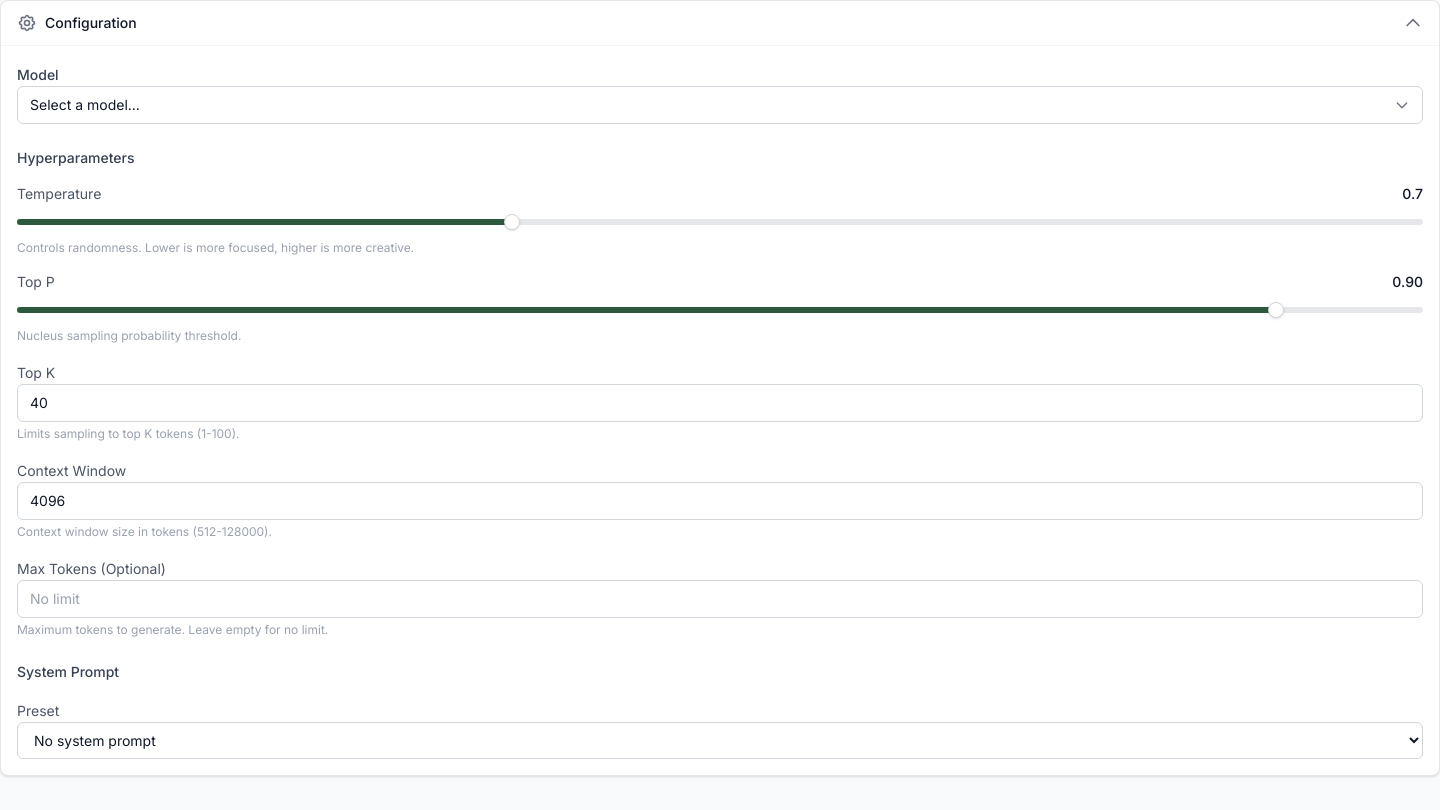
Scenario: ConfigPanel › collapsible behaviour › has correct aria-expanded attribute
Click the button with test id "config-panel-trigger" at {"x": 91, "y": 22}, box [1,1,1439,45]
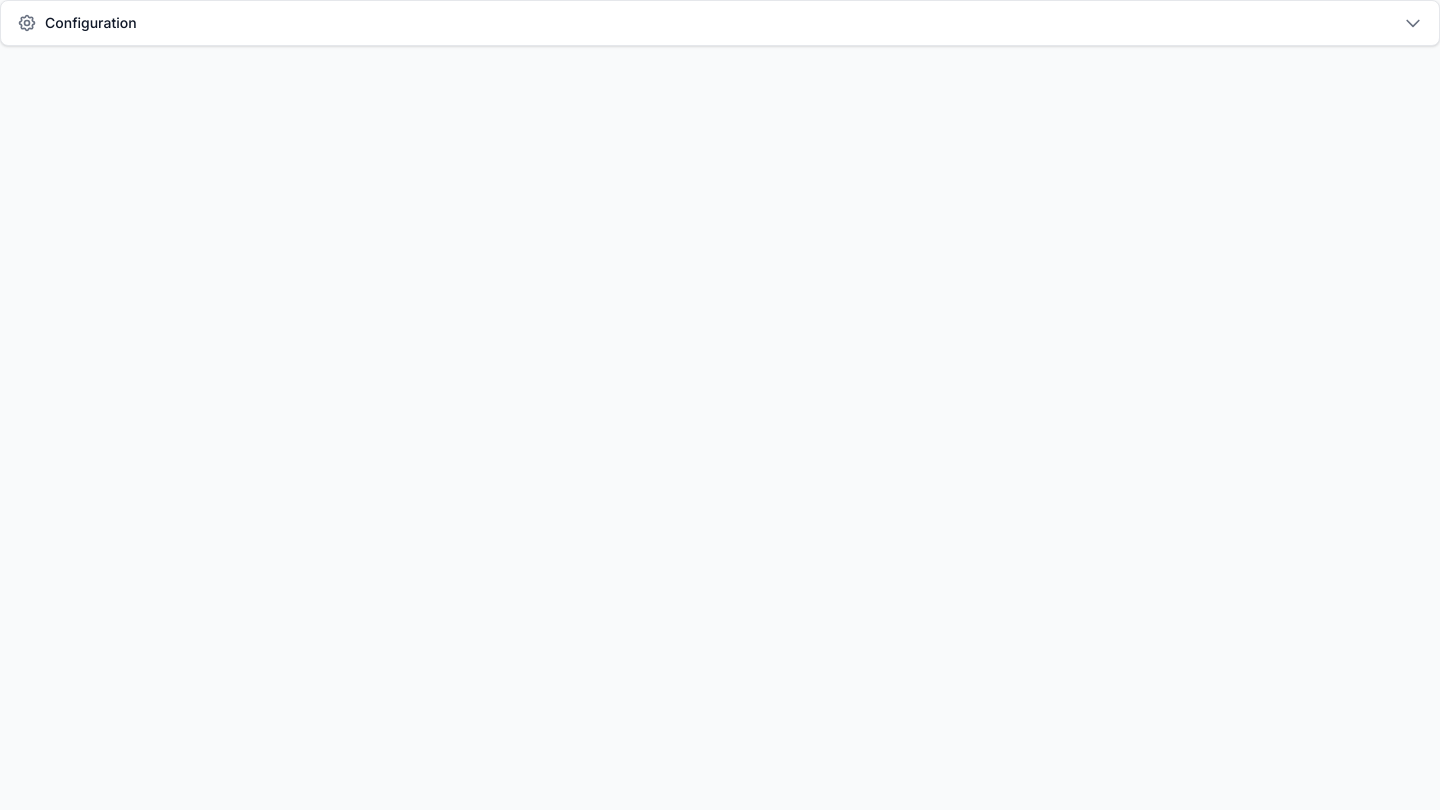
Now the button with test id "config-panel-trigger" is collapsed, box [1,1,1439,45]
